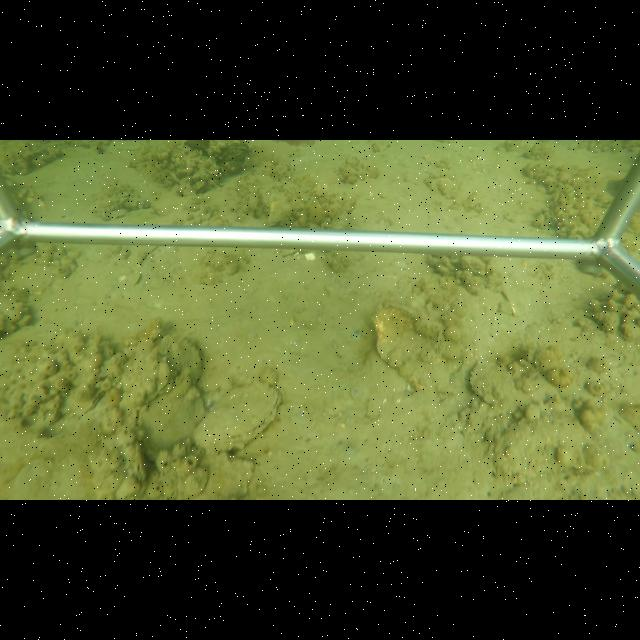Oyster-Closed: (494, 406, 611, 485), (192, 379, 282, 455), (141, 377, 208, 448), (466, 360, 560, 410), (142, 331, 200, 410), (203, 453, 257, 497), (324, 207, 350, 228)
Oyster-Open: (76, 388, 109, 418)
